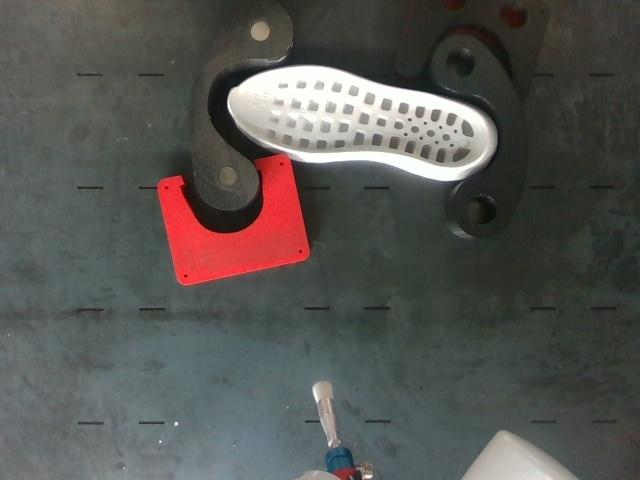shoes: (230, 66, 489, 168)
